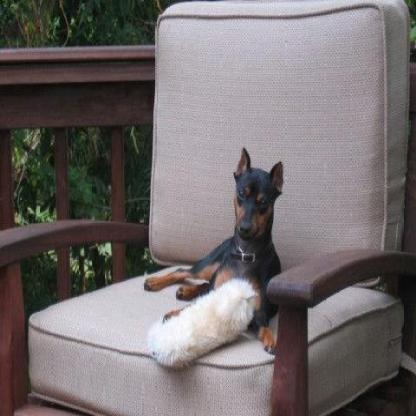miniature_pinscher: (142, 149, 282, 353)
